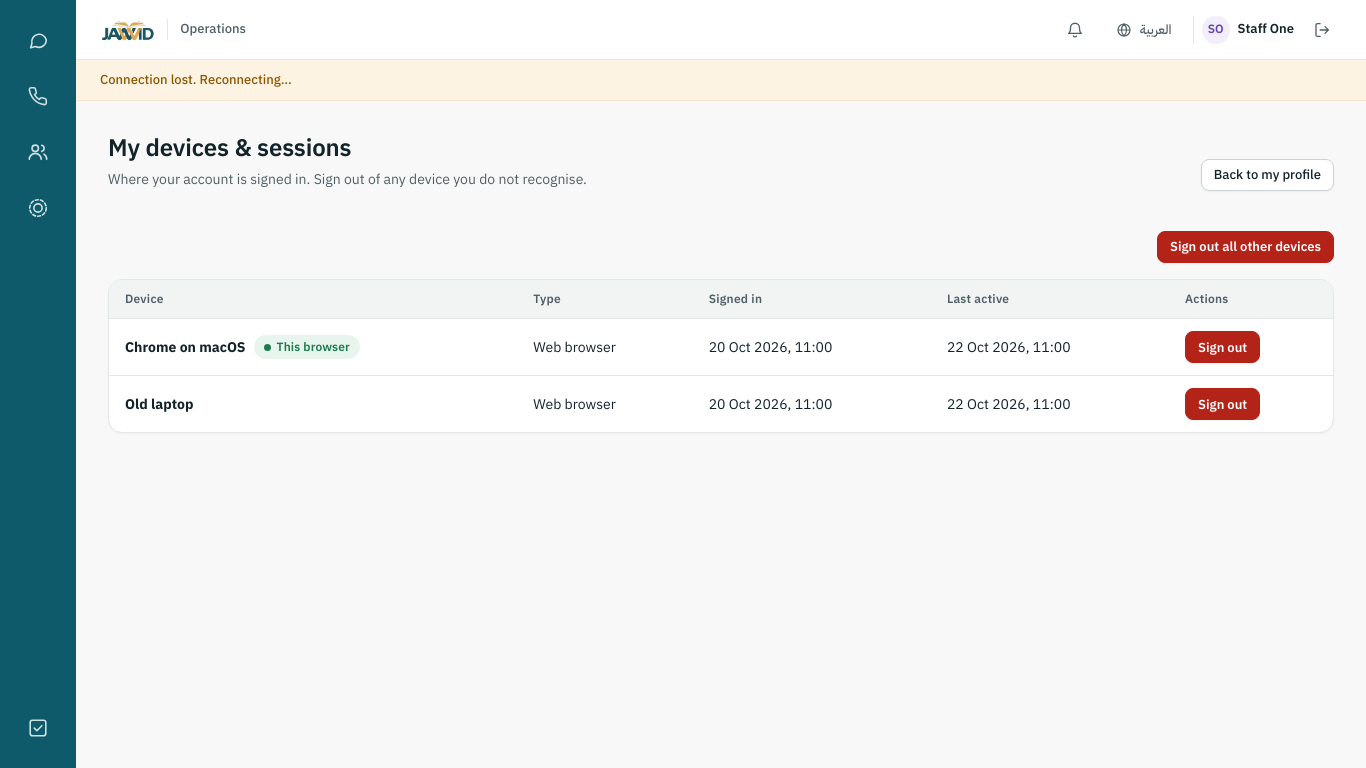
Test: PD-23: My devices & sessions › says a session that already ended plainly, and refreshes the list
Click the button "Sign out" in the row of "Old laptop" at (1223, 404), box [1185, 388, 1260, 420]
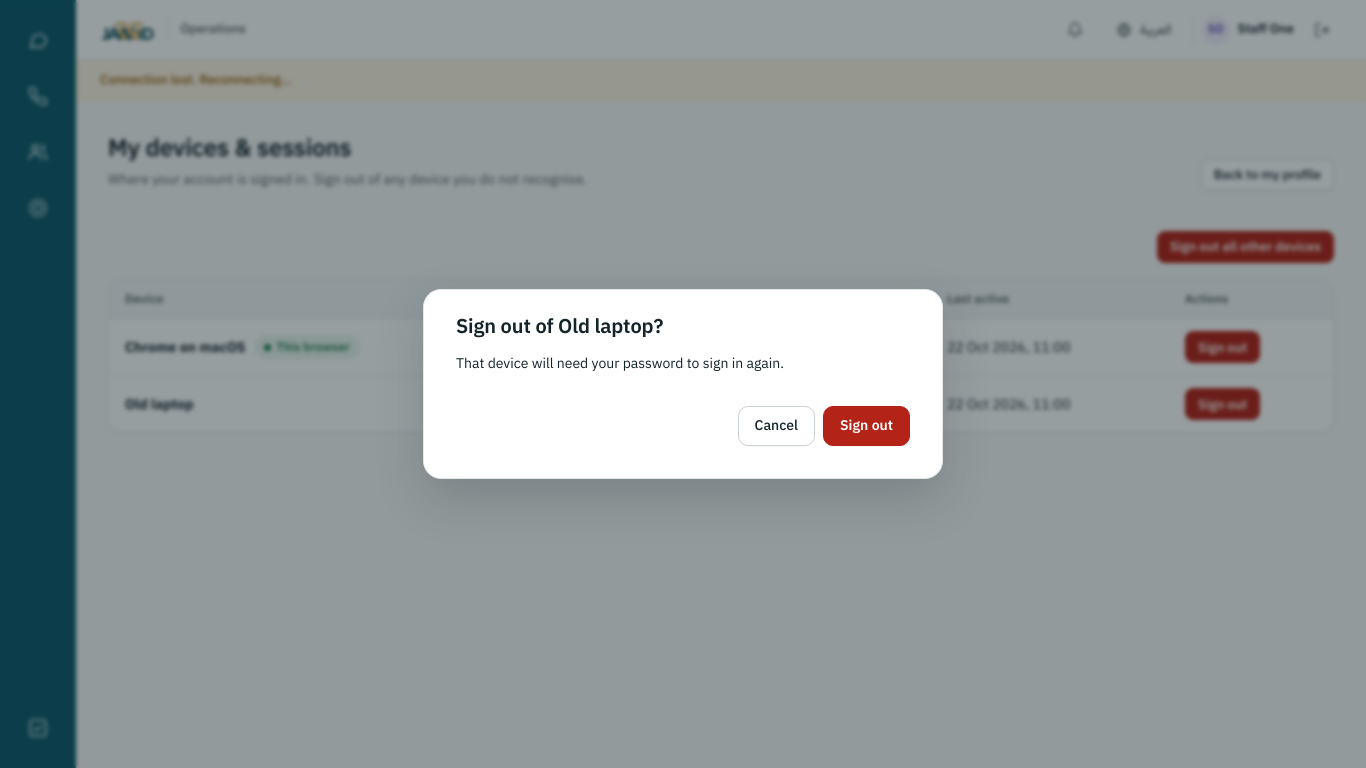
Click the button "Sign out" at (867, 426), box [823, 406, 910, 446]
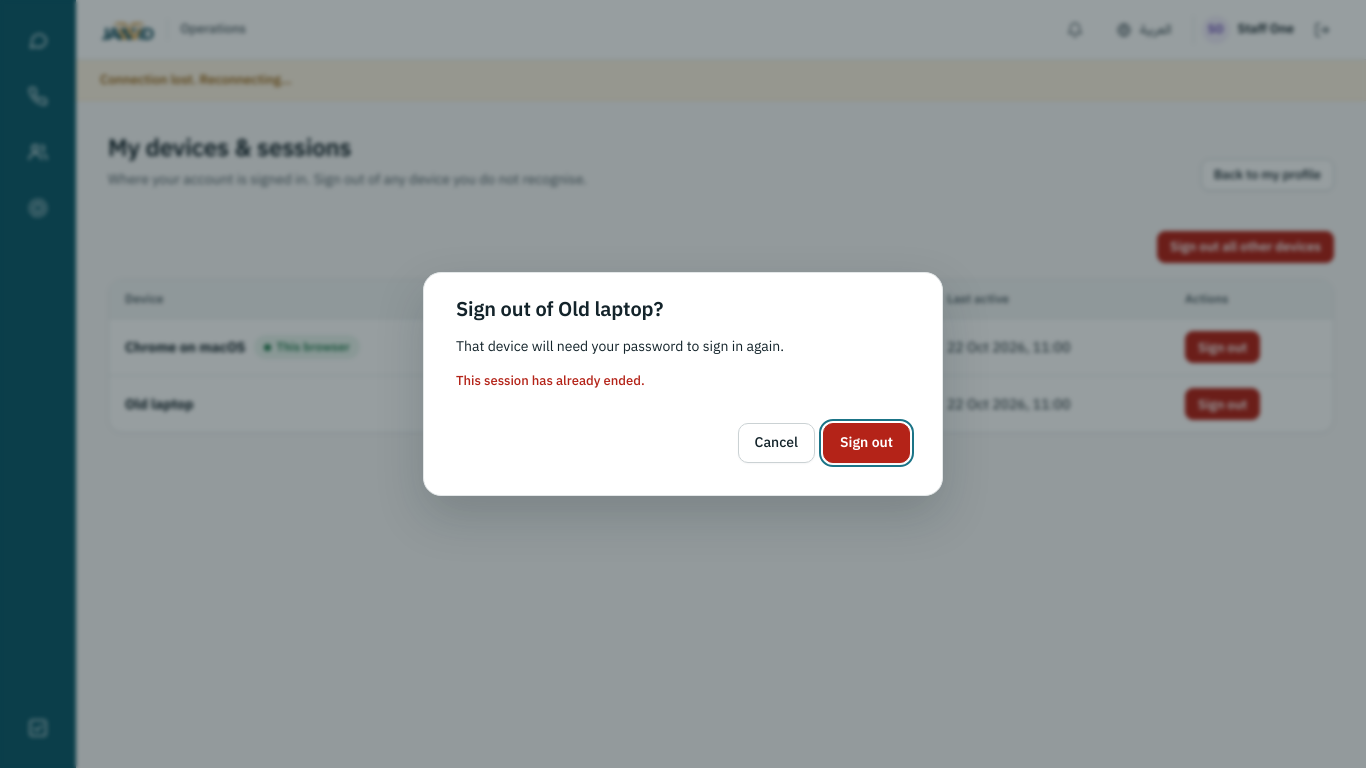
Now the message "This session has already ended." is shown, box [456, 371, 645, 390]
